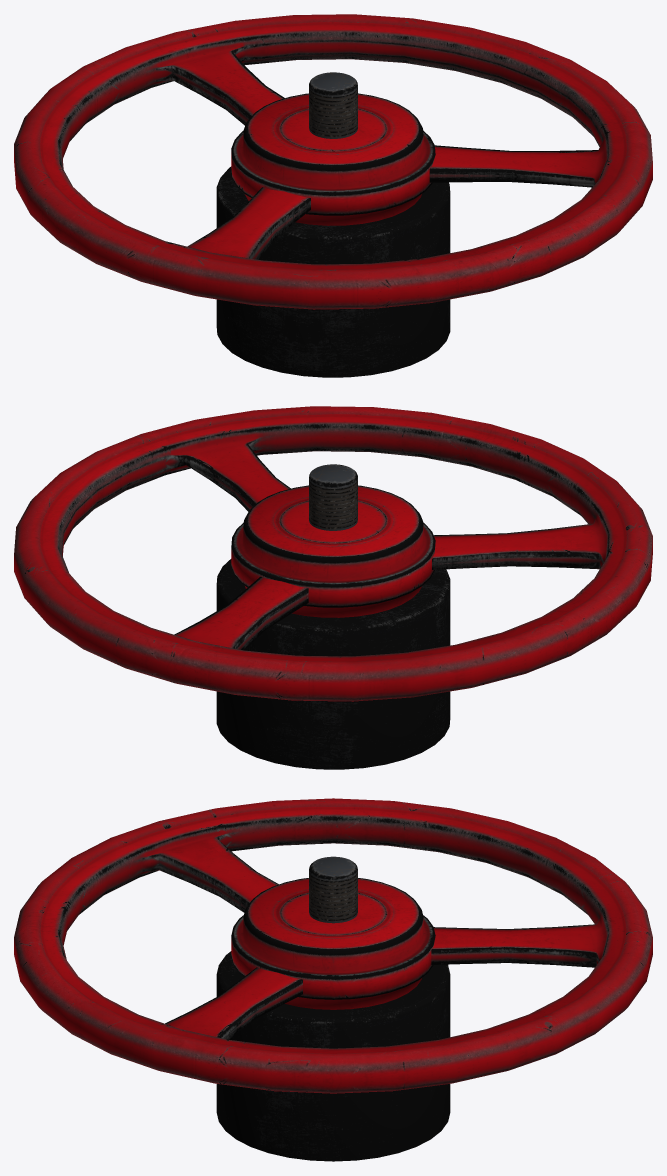
File: valve.fbx
3 views of the same model, one above another, from view 1: azimuth 30°, elevation 25°; view 2: azimuth 150°, elevation 25°; view 3: azimuth 270°, elevation 25° (orthographic).
Visible parts, largest first — view 1: Gate Valve, Tube; view 2: Gate Valve, Tube; view 3: Gate Valve, Tube.
Boxes of the visible parts, x1,y1,x2,y2 form: Gate Valve: (14,14,652,309); Tube: (216,72,450,377); Gate Valve: (14,406,652,701); Tube: (216,464,450,769); Gate Valve: (14,798,652,1093); Tube: (216,856,450,1161).
Bounding box in the file's own units: 262 × 111 × 262.
